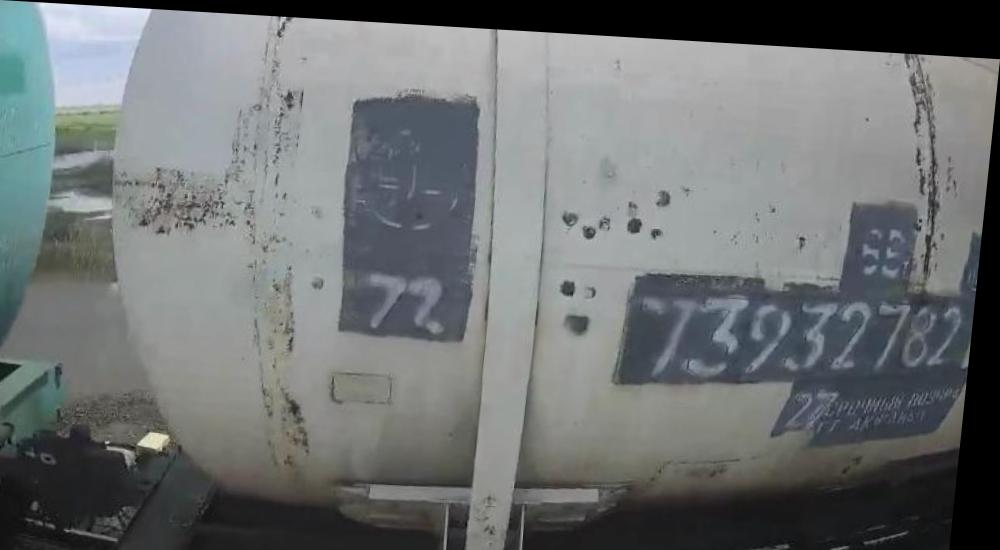Wagon-number: (631, 271, 979, 384)
